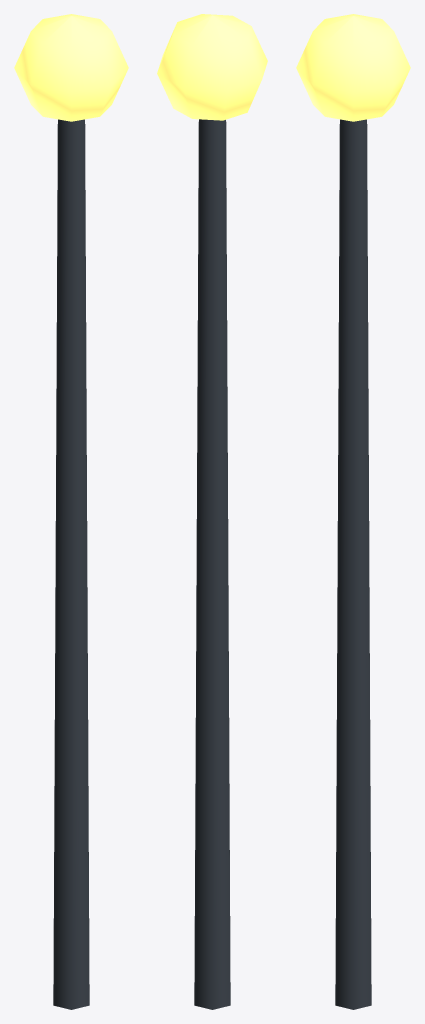
The model's file is prop_lamp_post.glb.
3 renders of one model, left to right at view 1: azimuth 90°, elevation 25°; view 2: azimuth 150°, elevation 25°; view 3: azimuth 270°, elevation 25°, orthographic.
Visible parts, largest first — view 1: prop_lamp_post_LOD0; view 2: prop_lamp_post_LOD0; view 3: prop_lamp_post_LOD0.
Part boxes in pixels (x1,y1,x2,y2): prop_lamp_post_LOD0: (14,14,128,1009); prop_lamp_post_LOD0: (157,14,267,1009); prop_lamp_post_LOD0: (296,14,410,1009).
Size of what is drawn, in the model's own units: 0.44 by 4.17 by 0.44.
1 material, 1 textured.
